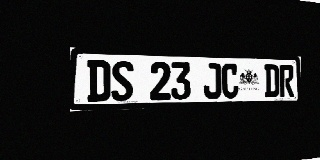2: (150, 62, 170, 100)
3: (171, 62, 190, 100)
C: (222, 63, 238, 99)
D: (87, 60, 110, 102), (264, 64, 279, 97)
J: (203, 63, 221, 99)
R: (279, 65, 294, 97)
S: (111, 61, 133, 101)
